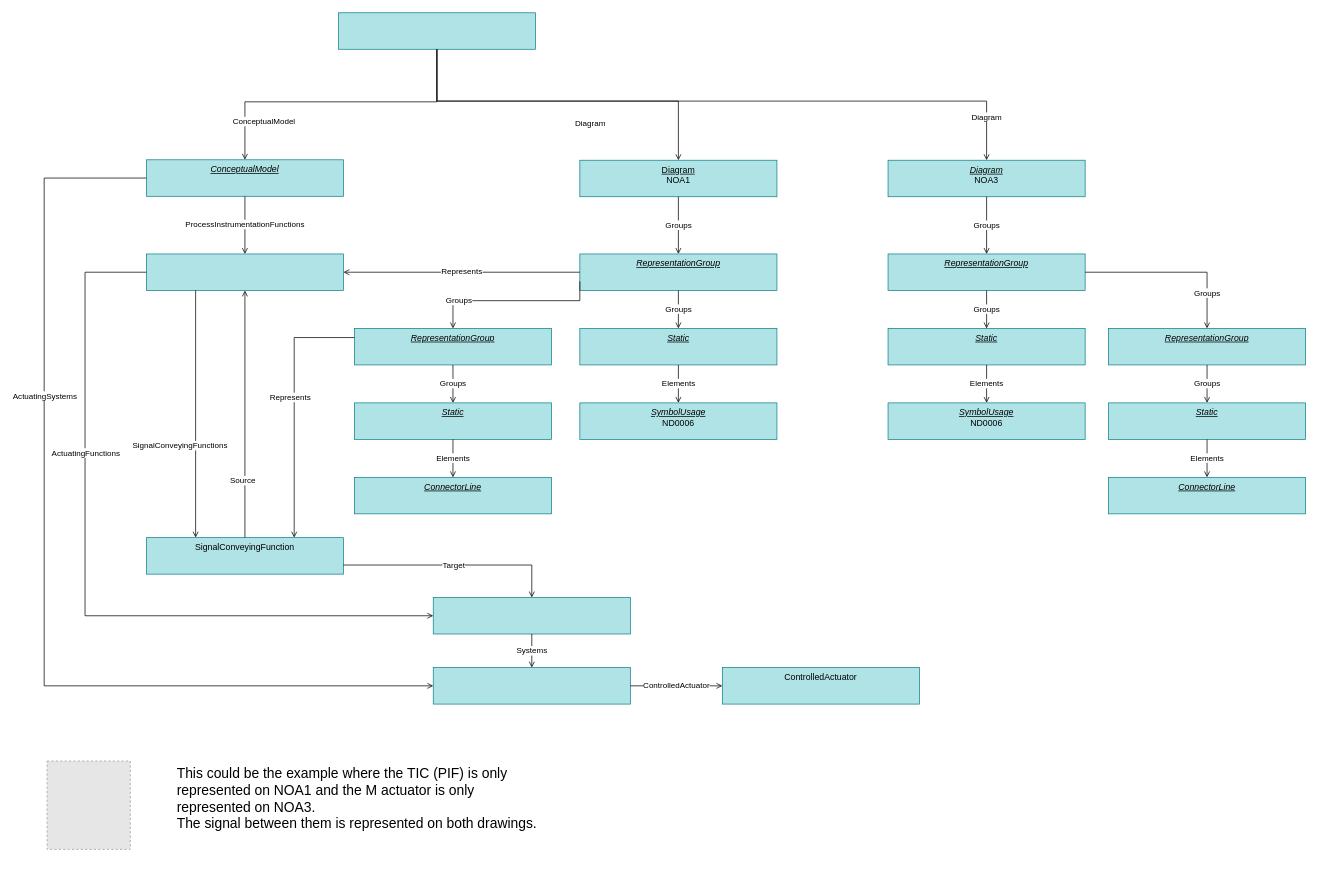
Image size: 1318x894. Some labels were removed from this diagram. Grey dashed boxes stand in for pictures. The box of each missing label's shape, as (x1, y1, x2, y2) in pixels:
ActuatingFunction: (433, 597, 630, 634)
ActuatingSystem: (433, 667, 630, 704)
DEXPI Model: (338, 12, 535, 49)
ProcessInstrumentationFunction TIC: (146, 253, 343, 290)
